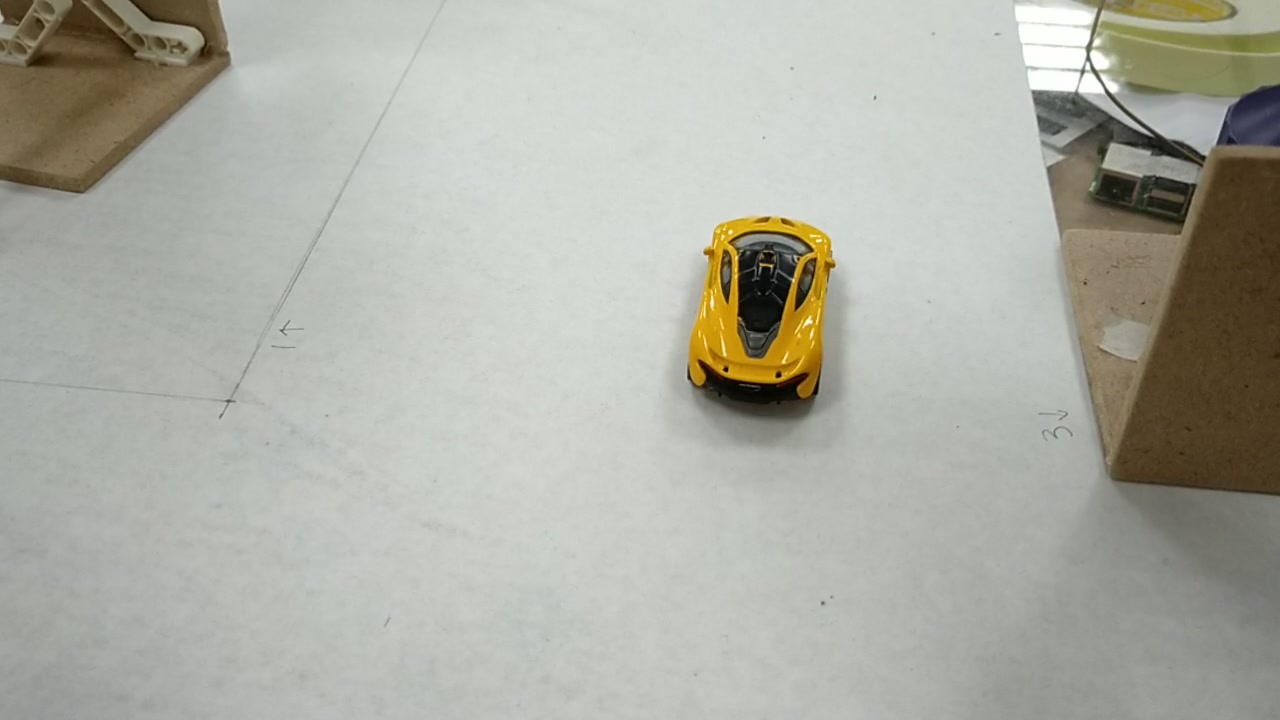car: (689, 214, 832, 397)
